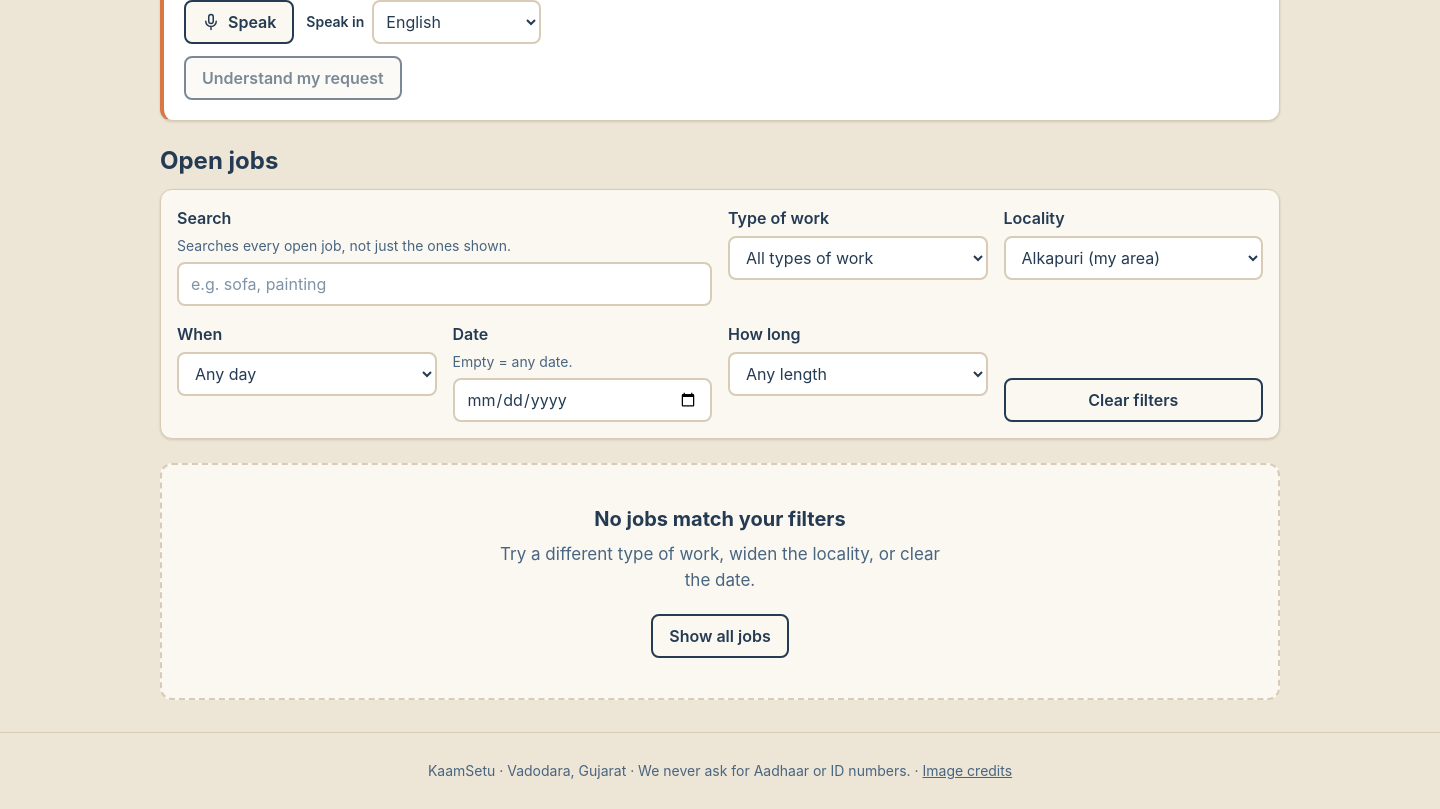
Test case: browse jobs › shows an empty state, and a filtered empty state with a way back
This screenshot has width=1440, height=809.
(page scrolled)
Expected: the heading "No jobs match your filters" is shown, [594,507,846,531]
Click the button "Show all jobs" at (720, 636), box [651,614,789,658]
(page scrolled)
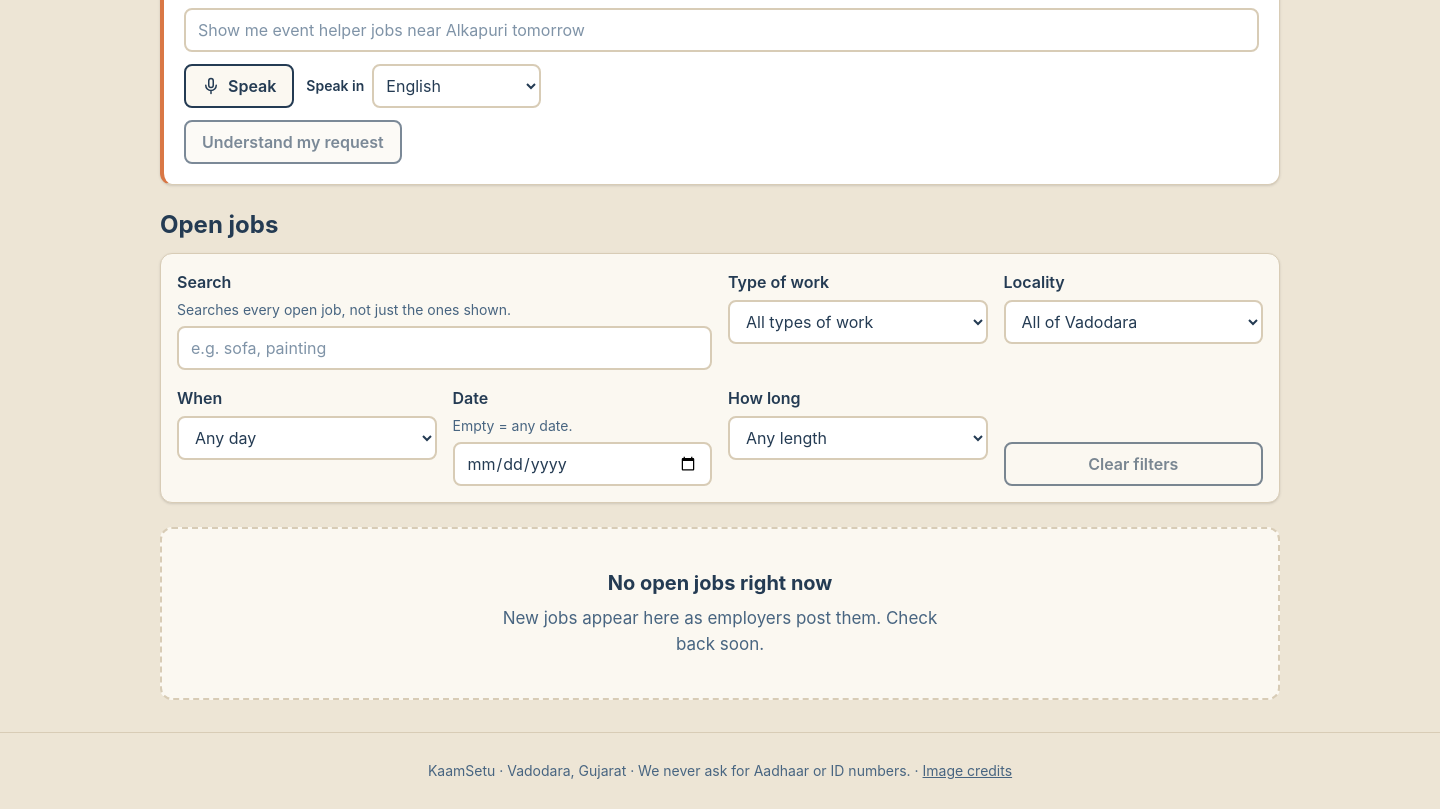
Now the heading "No open jobs right now" is shown, box [608,571,832,595]
